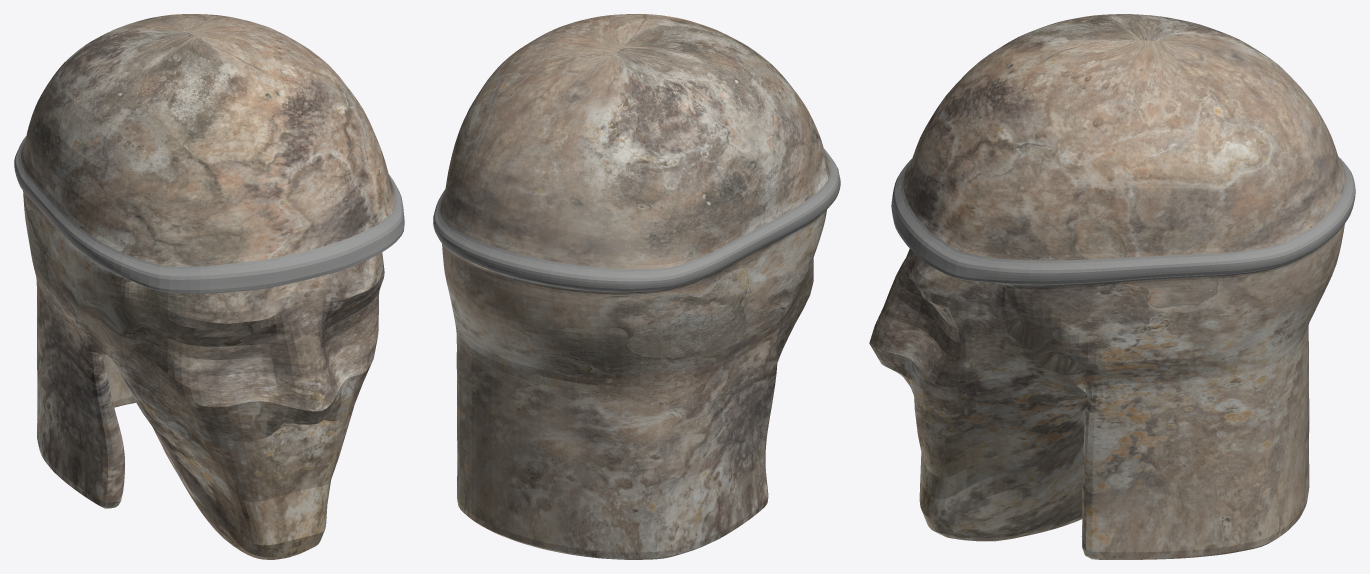
The model's file is MagiHead.fbx.
The picture shows the model from 3 angles, left to right: view 1: azimuth 30°, elevation 25°; view 2: azimuth 150°, elevation 25°; view 3: azimuth 270°, elevation 25°; orthographic projection. The views are drawn at different scales.
Visible parts, largest first — view 1: Roundcube.001; view 2: Roundcube.001; view 3: Roundcube.001.
Part boxes in pixels (<box>): Roundcube.001: <box>14,14,404,559</box>; Roundcube.001: <box>433,14,840,559</box>; Roundcube.001: <box>869,14,1355,559</box>.
Size of the model in its own units: 0.2481 by 0.3218 by 0.3618.
